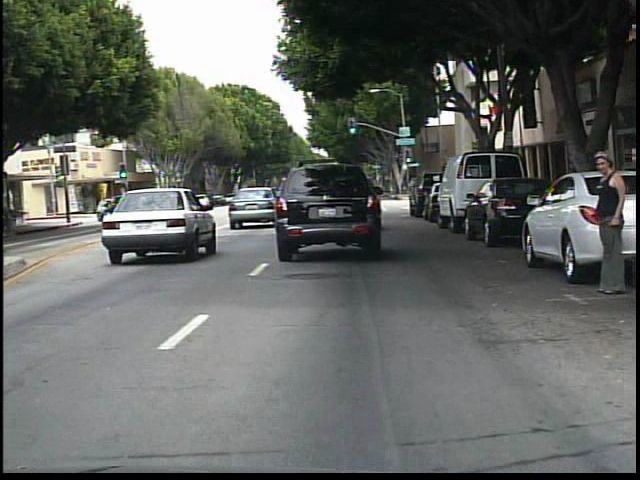person: (586, 148, 622, 300)
